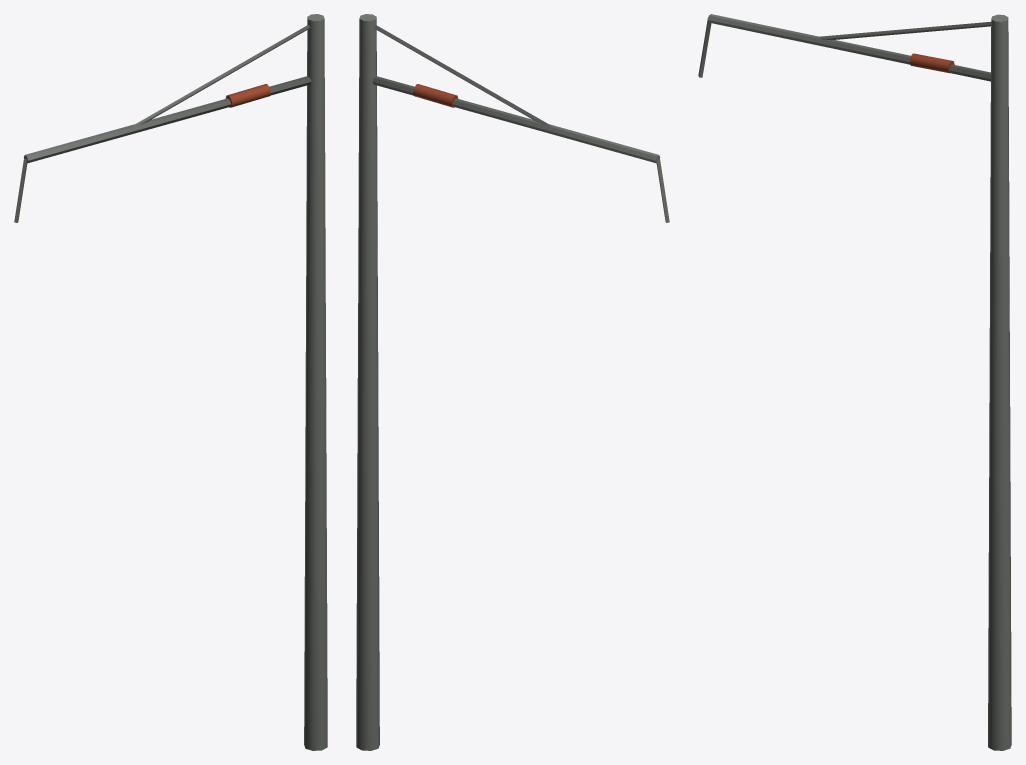
Rendered from catenary_mast.glb.
3 renders of one model, left to right at view 1: azimuth 30°, elevation 25°; view 2: azimuth 150°, elevation 25°; view 3: azimuth 330°, elevation 25°, orthographic.
Visible parts, largest first — view 1: catenary_mast_mesh; view 2: catenary_mast_mesh; view 3: catenary_mast_mesh.
Boxes of the visible parts, x1,y1,x2,y2 form: catenary_mast_mesh: [14, 14, 327, 750]; catenary_mast_mesh: [356, 14, 669, 750]; catenary_mast_mesh: [698, 14, 1011, 750].
Bounding box in the file's own units: 3.23 × 7.2 × 0.22.
